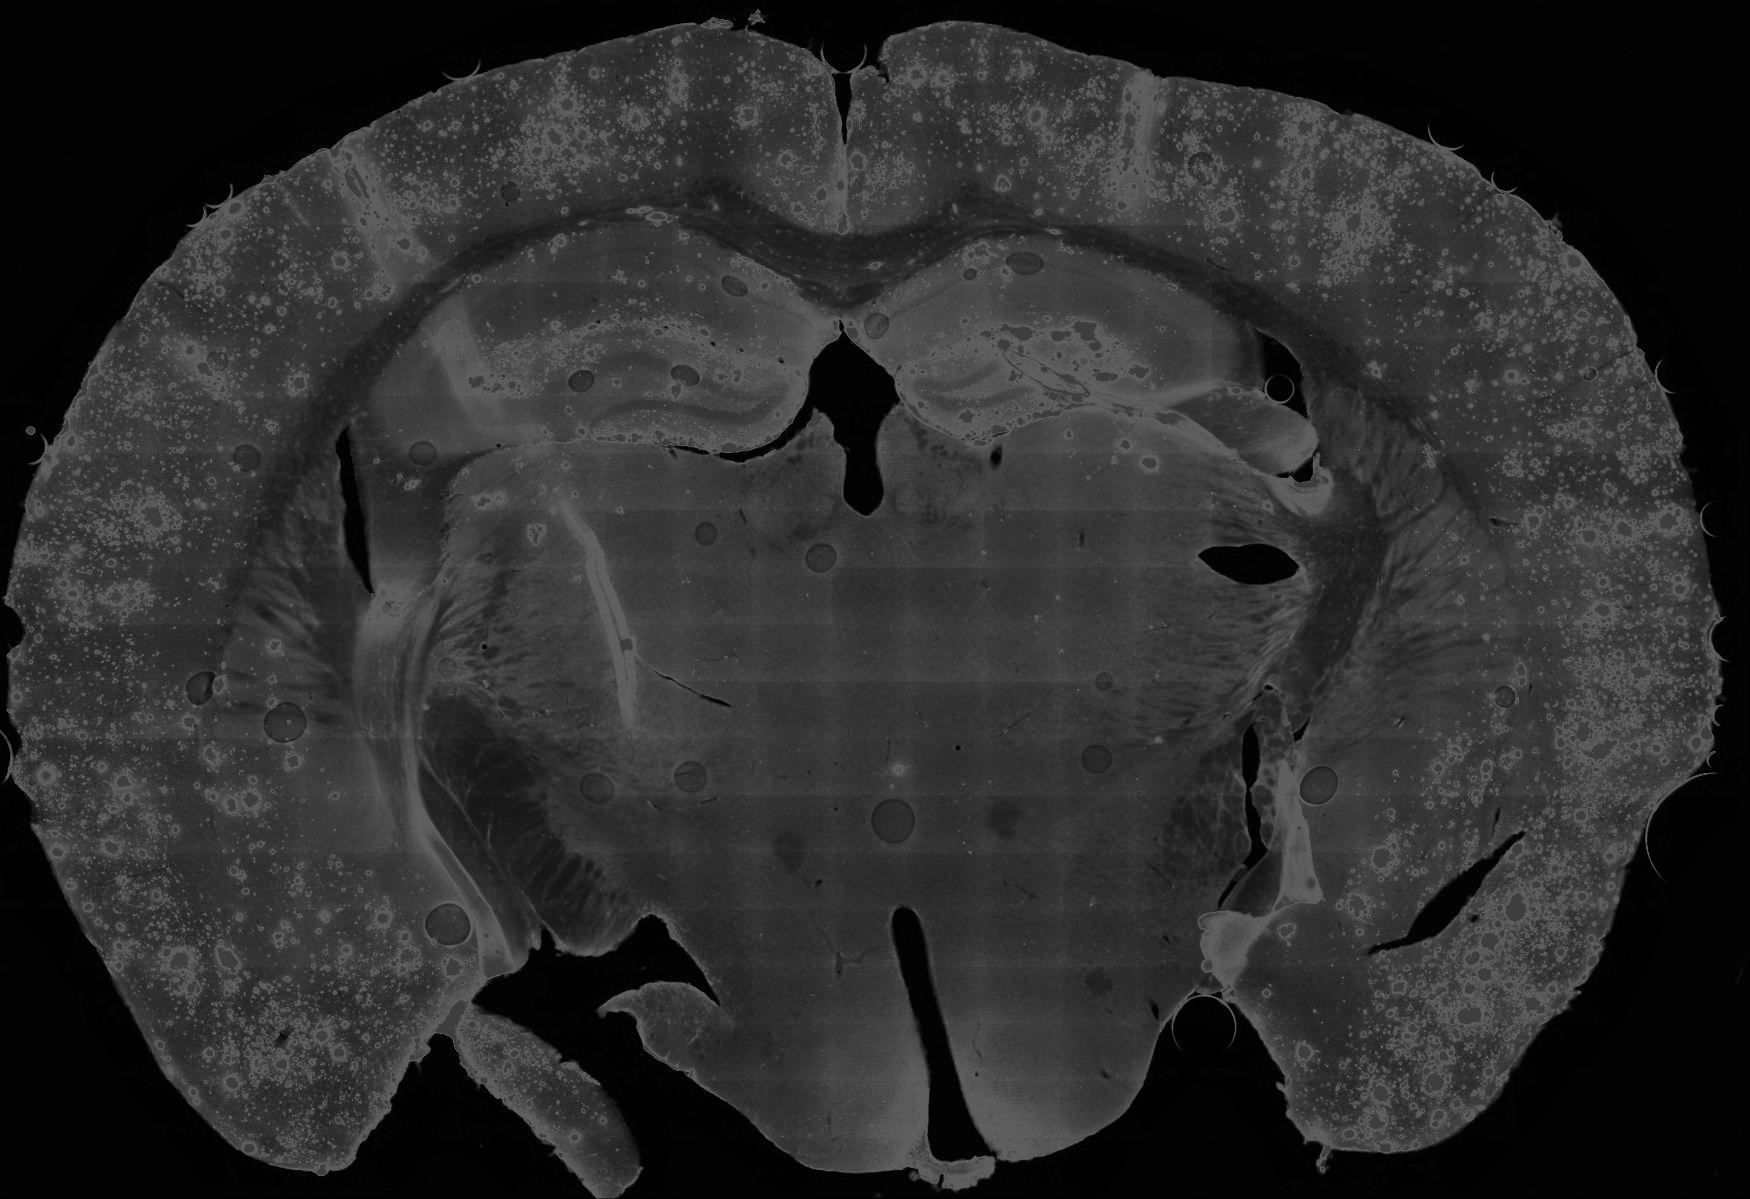Cerebral nuclei: (1316, 385, 1524, 790), (206, 451, 392, 857)
Hippocampal formation: (368, 222, 840, 455), (839, 237, 1243, 440)
Hypothalamus: (529, 760, 957, 1176), (890, 701, 1250, 1163)
Retrosplenial area: (844, 23, 957, 237), (741, 31, 846, 237)
Somatosensory area: (32, 48, 614, 552), (1120, 74, 1689, 513)
Thalamus: (426, 407, 890, 849), (864, 404, 1323, 835)
